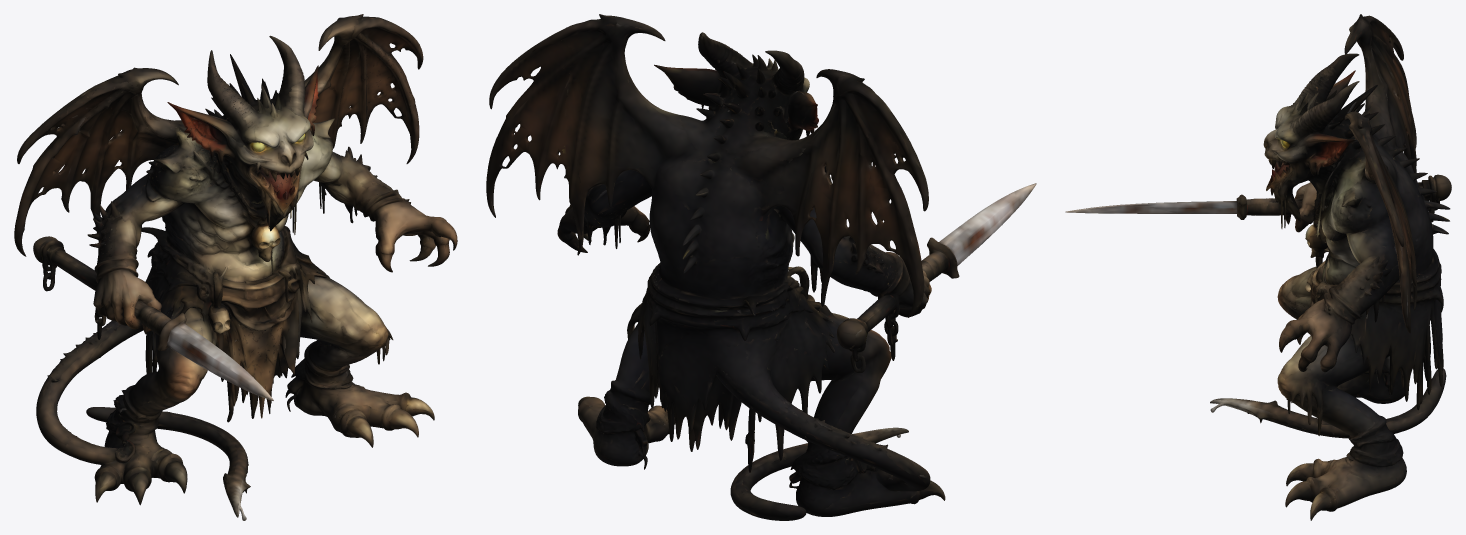
The model's file is quasit.glb.
3 renders of one model, left to right at view 1: azimuth 30°, elevation 25°; view 2: azimuth 150°, elevation 25°; view 3: azimuth 270°, elevation 25°, orthographic. The views are drawn at different scales.
Visible parts, largest first — view 1: material; view 2: material; view 3: material.
Part boxes in pixels (box(x1,y1,x2,y2)): material: box(14, 14, 457, 520); material: box(486, 14, 1036, 520); material: box(1065, 14, 1451, 520).
Bounding box in the file's own units: 0.9086 × 0.8649 × 0.7999.
1 material, 1 textured.
